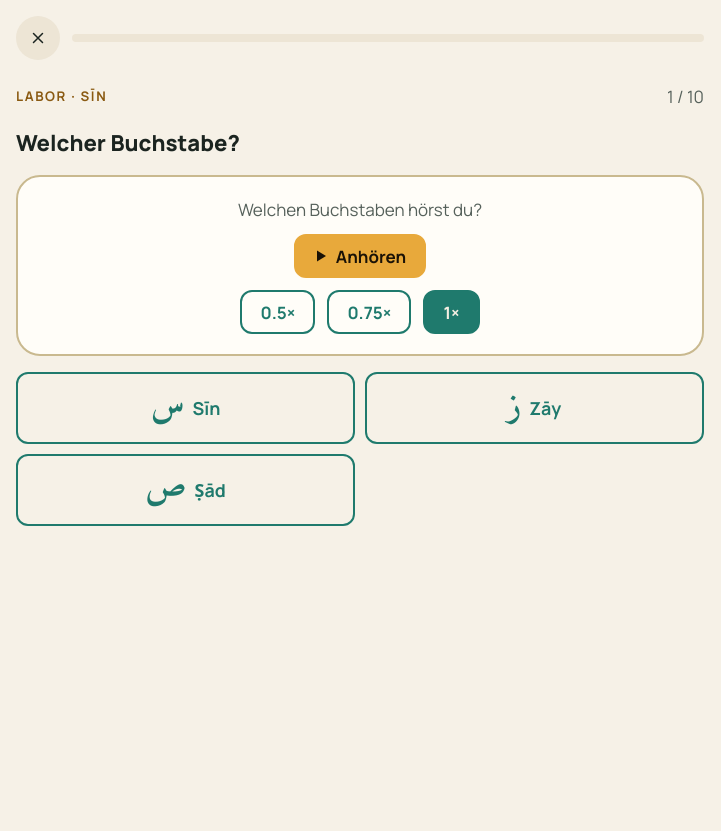
Welcher Buchstabe? (the listening quiz) › plays a word, then shows it with the answer and moves on
The width and height of the screenshot is (721, 831).
Expected: the heading reads "Welcher Buchstabe?", [16,126,240,158]
Expected: the text "1 / 10" is shown, [667,84,704,110]
Click the button "Anhören".
click(360, 256)  # box [294,234,426,278]
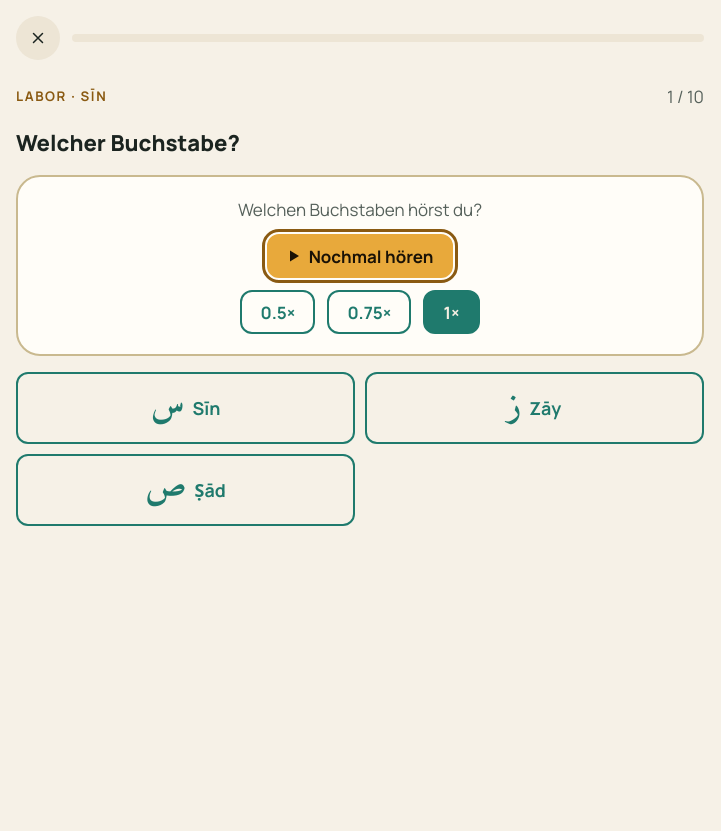
Click the button "ص Ṣād".
click(186, 490)  # box [16,454,355,526]
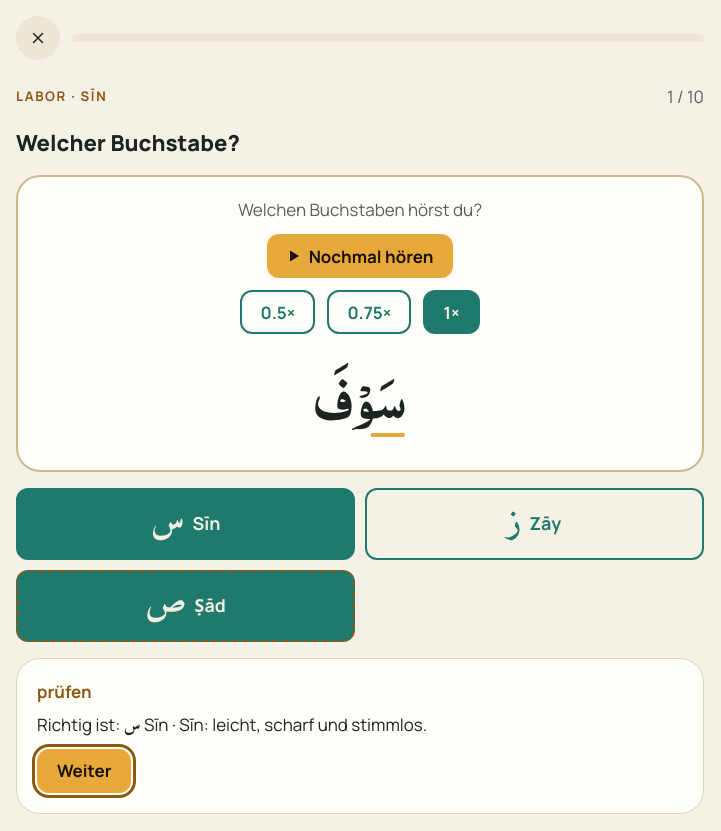
Result: the message shows "prüfen" at [37,680,92,703]
Result: the message shows "Richtig ist" at [37,713,115,736]
Result: the element showing "سَوْفَ" is shown at [315,346,405,450]
Click the button "Weiter".
click(84, 771)  # box [37,749,132,793]
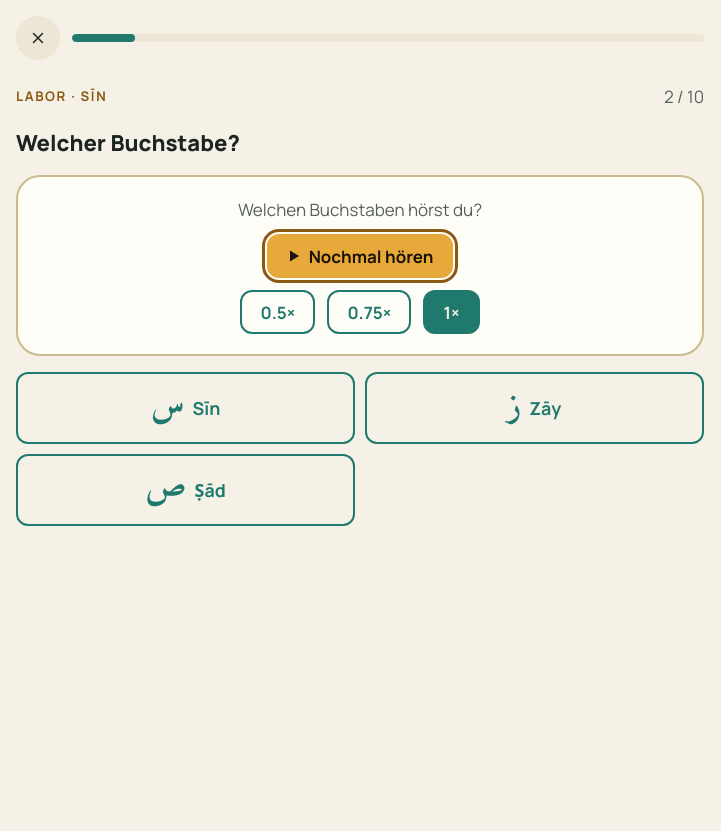
Result: the text "2 / 10" is shown at [664,84,704,110]
Result: the message "prüfen Richtig ist: س Sīn · Sīn: leicht, scharf und stimmlos. Weiter" is gone
